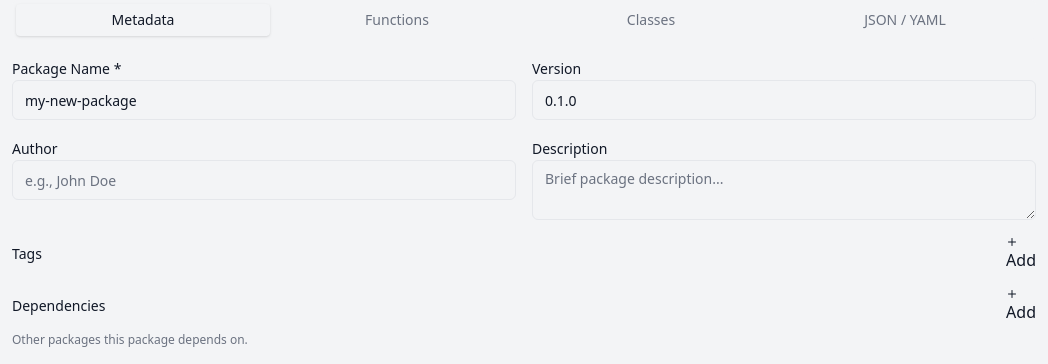
Test: PackageForm › shows empty state for classes tab
Step 1. Click the tab "Classes" → [651, 20], box [524,4,778,36]
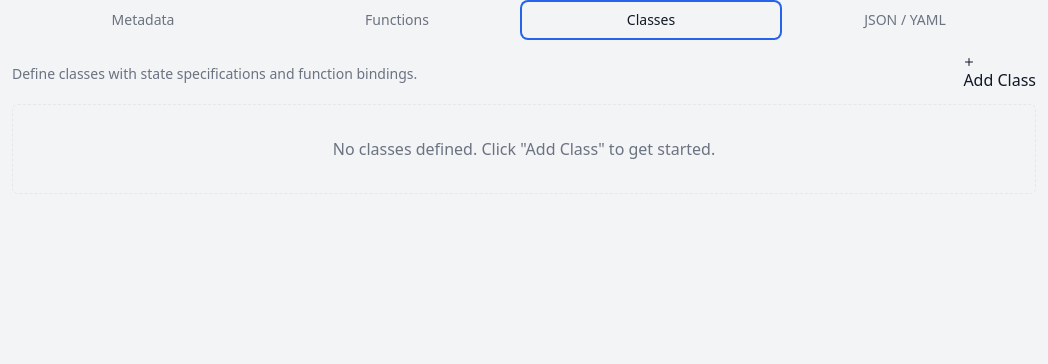
Now the text "No classes defined. Click \"Add Class\" to get started." is shown, box [12,104,1036,194]
